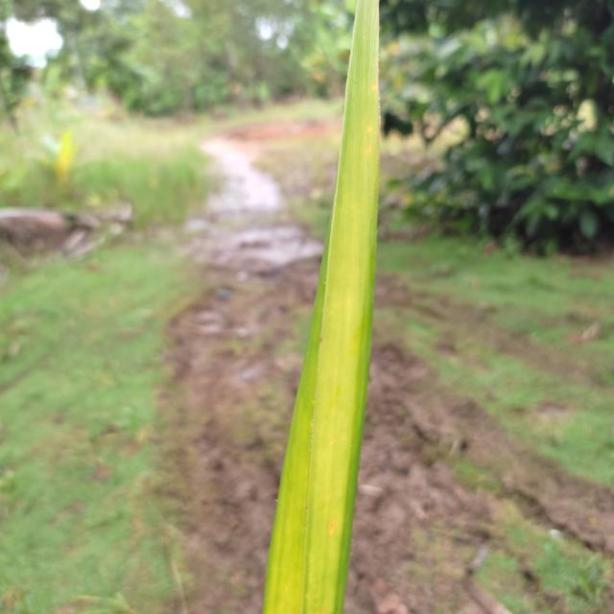nitrogen: (262, 0, 386, 614)
